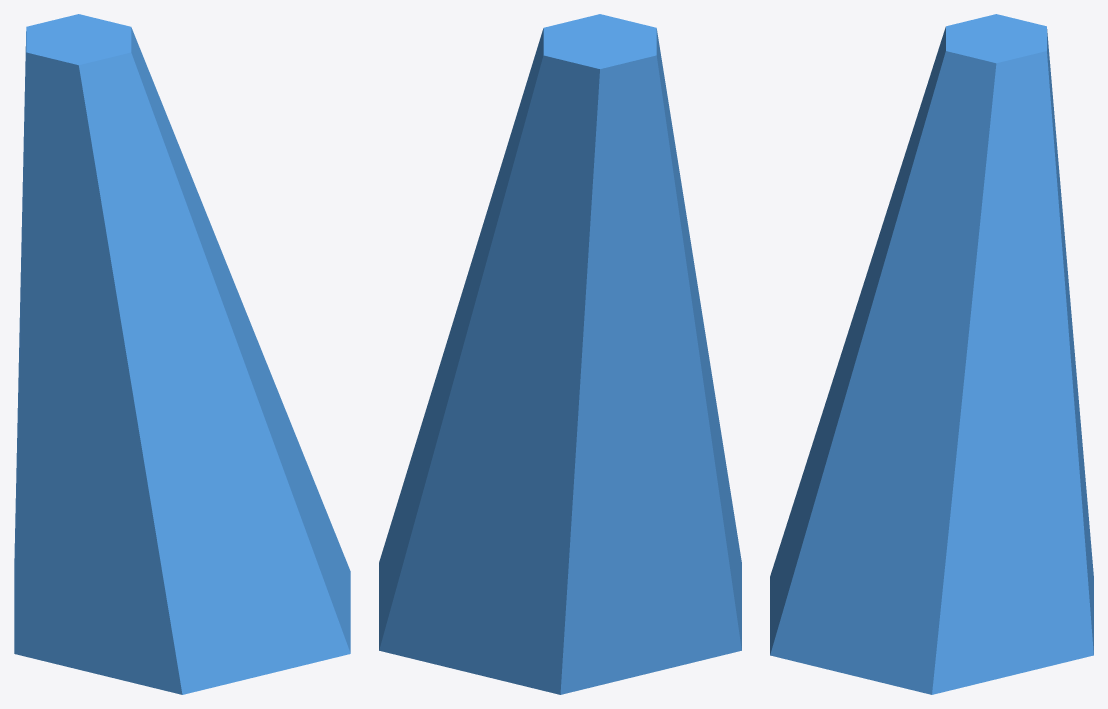
The model's file is rock3.fbx.
The picture shows the model from 3 angles, left to right: view 1: azimuth 30°, elevation 25°; view 2: azimuth 150°, elevation 25°; view 3: azimuth 270°, elevation 25°; orthographic projection. The views are drawn at different scales.
Visible parts, largest first — view 1: Cylinder.876; view 2: Cylinder.876; view 3: Cylinder.876.
Part boxes in pixels (x1,y1,x2,y2): Cylinder.876: [14, 14, 350, 694]; Cylinder.876: [379, 14, 741, 694]; Cylinder.876: [770, 14, 1093, 694].
Bounding box in the file's own units: 200 × 321 × 173.
